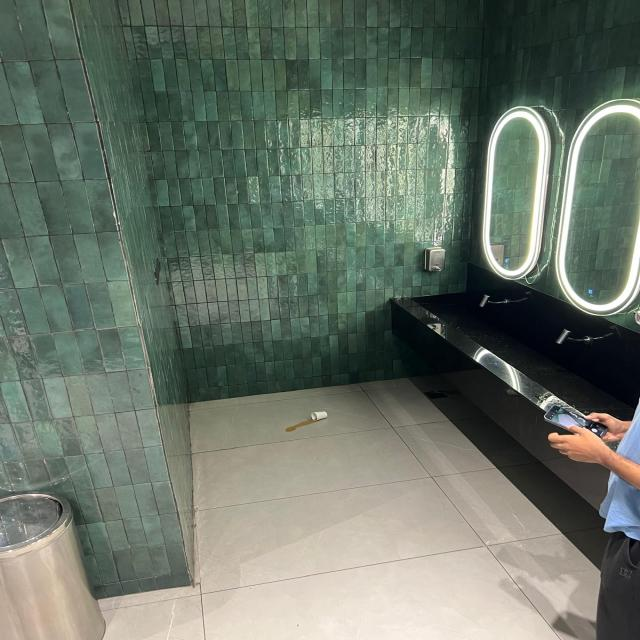cup: (312, 412, 326, 420)
spill: (285, 418, 315, 432)
